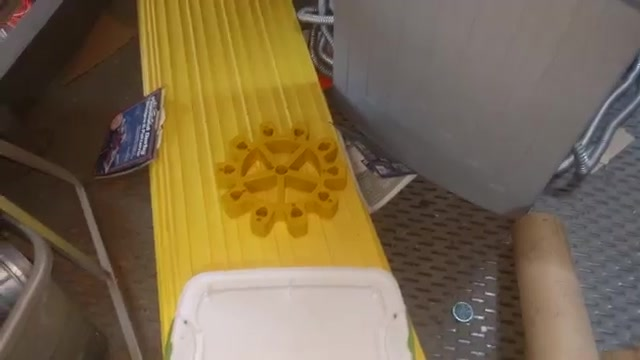gear: (203, 107, 357, 239)
